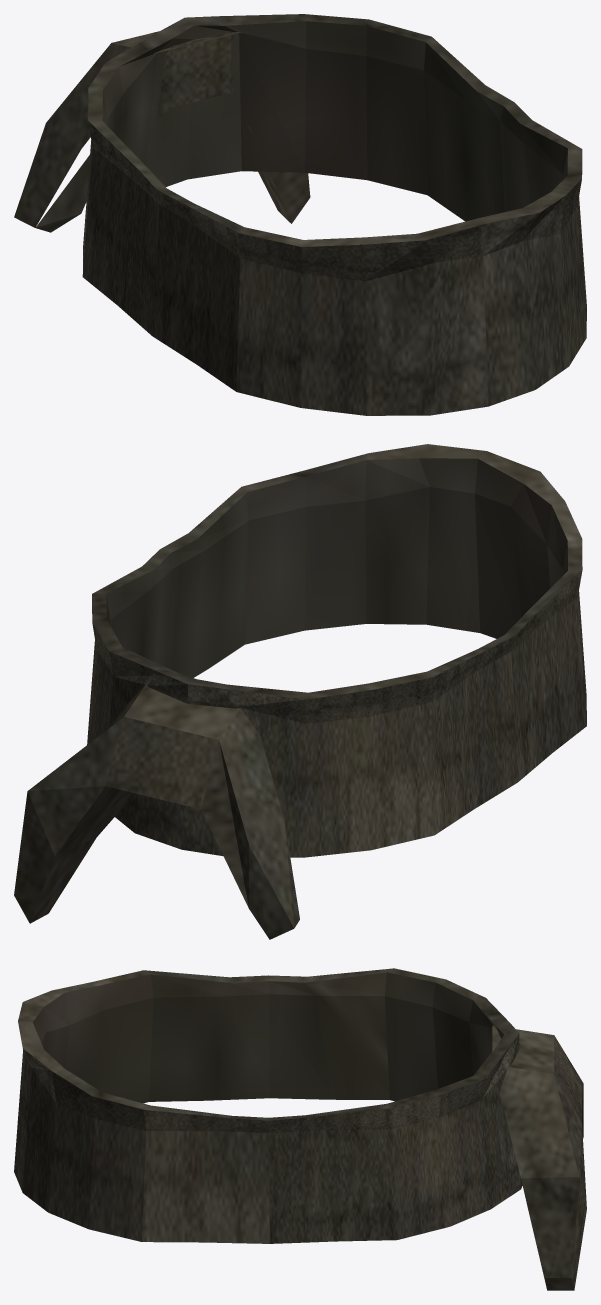
The model's file is OPASKA3.glb.
3 views of the same model, one above another, from view 1: azimuth 30°, elevation 25°; view 2: azimuth 150°, elevation 25°; view 3: azimuth 270°, elevation 25° (orthographic). The views are drawn at different scales.
Visible parts, largest first — view 1: OPASKA3; view 2: OPASKA3; view 3: OPASKA3.
Boxes of the visible parts, box(x1,y1,x2,y2) form: OPASKA3: box(14, 14, 586, 415); OPASKA3: box(14, 444, 586, 939); OPASKA3: box(14, 968, 586, 1290).
Size of the model in its own units: 0.1793 by 0.1237 by 0.2931.
1 material, 1 textured.
